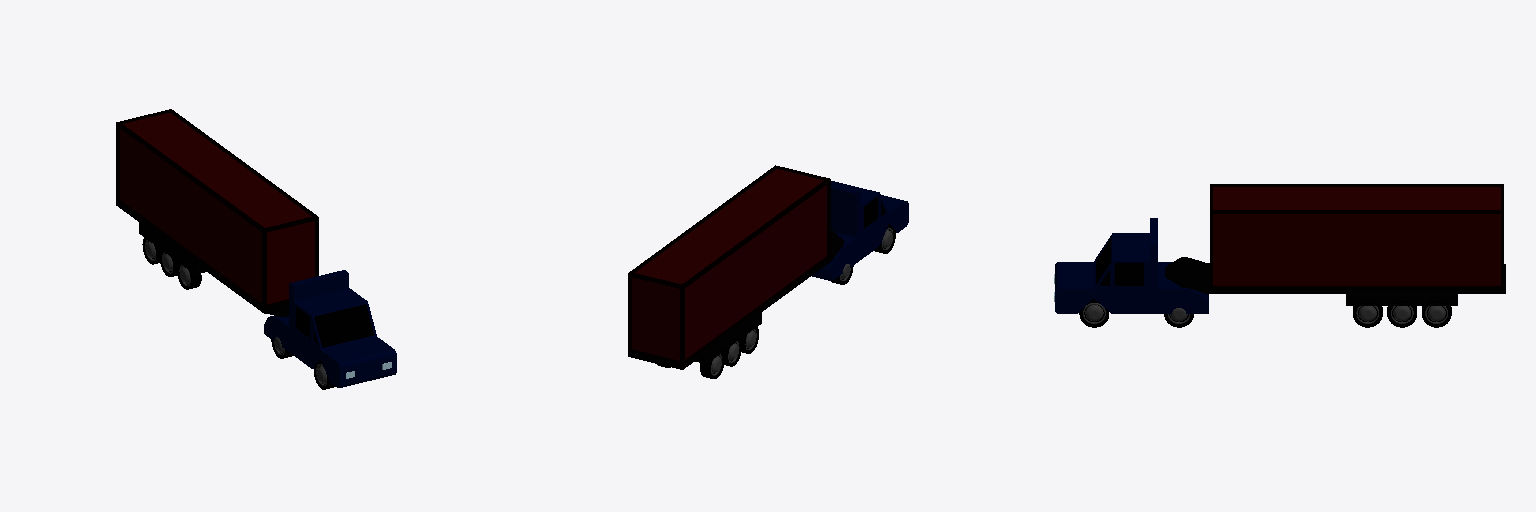
The model's file is truck.obj.
3 renders of one model, left to right at view 1: azimuth 30°, elevation 25°; view 2: azimuth 150°, elevation 25°; view 3: azimuth 270°, elevation 25°, orthographic.
Parts seen in each view (by area): view 1: trailer_Cube.005, truck_Cube, trailer-tray_Cube.003; view 2: trailer_Cube.005, truck_Cube, trailer-tray_Cube.003; view 3: trailer_Cube.005, truck_Cube, trailer-tray_Cube.003, trailer-left-wheel1_Cylinder.023, trailer-left-wheel2_Cylinder.024, trailer-left-wheel3_Cylinder.025, front-left-wheel_Cylinder.001.
Boxes of the visible parts, x1,y1,x2,y2 form: trailer_Cube.005: [116, 109, 318, 308]; truck_Cube: [264, 270, 396, 387]; trailer-tray_Cube.003: [116, 202, 288, 316]; trailer_Cube.005: [628, 165, 830, 365]; truck_Cube: [812, 181, 908, 280]; trailer-tray_Cube.003: [628, 230, 843, 369]; trailer_Cube.005: [1210, 184, 1503, 289]; truck_Cube: [1054, 218, 1208, 313]; trailer-tray_Cube.003: [1165, 257, 1505, 305]; trailer-left-wheel1_Cylinder.023: [1353, 300, 1382, 327]; trailer-left-wheel2_Cylinder.024: [1387, 300, 1416, 327]; trailer-left-wheel3_Cylinder.025: [1422, 300, 1451, 327]; front-left-wheel_Cylinder.001: [1079, 299, 1108, 327].
Size of the model in its own units: 0.7071 by 1.34 by 4.71.